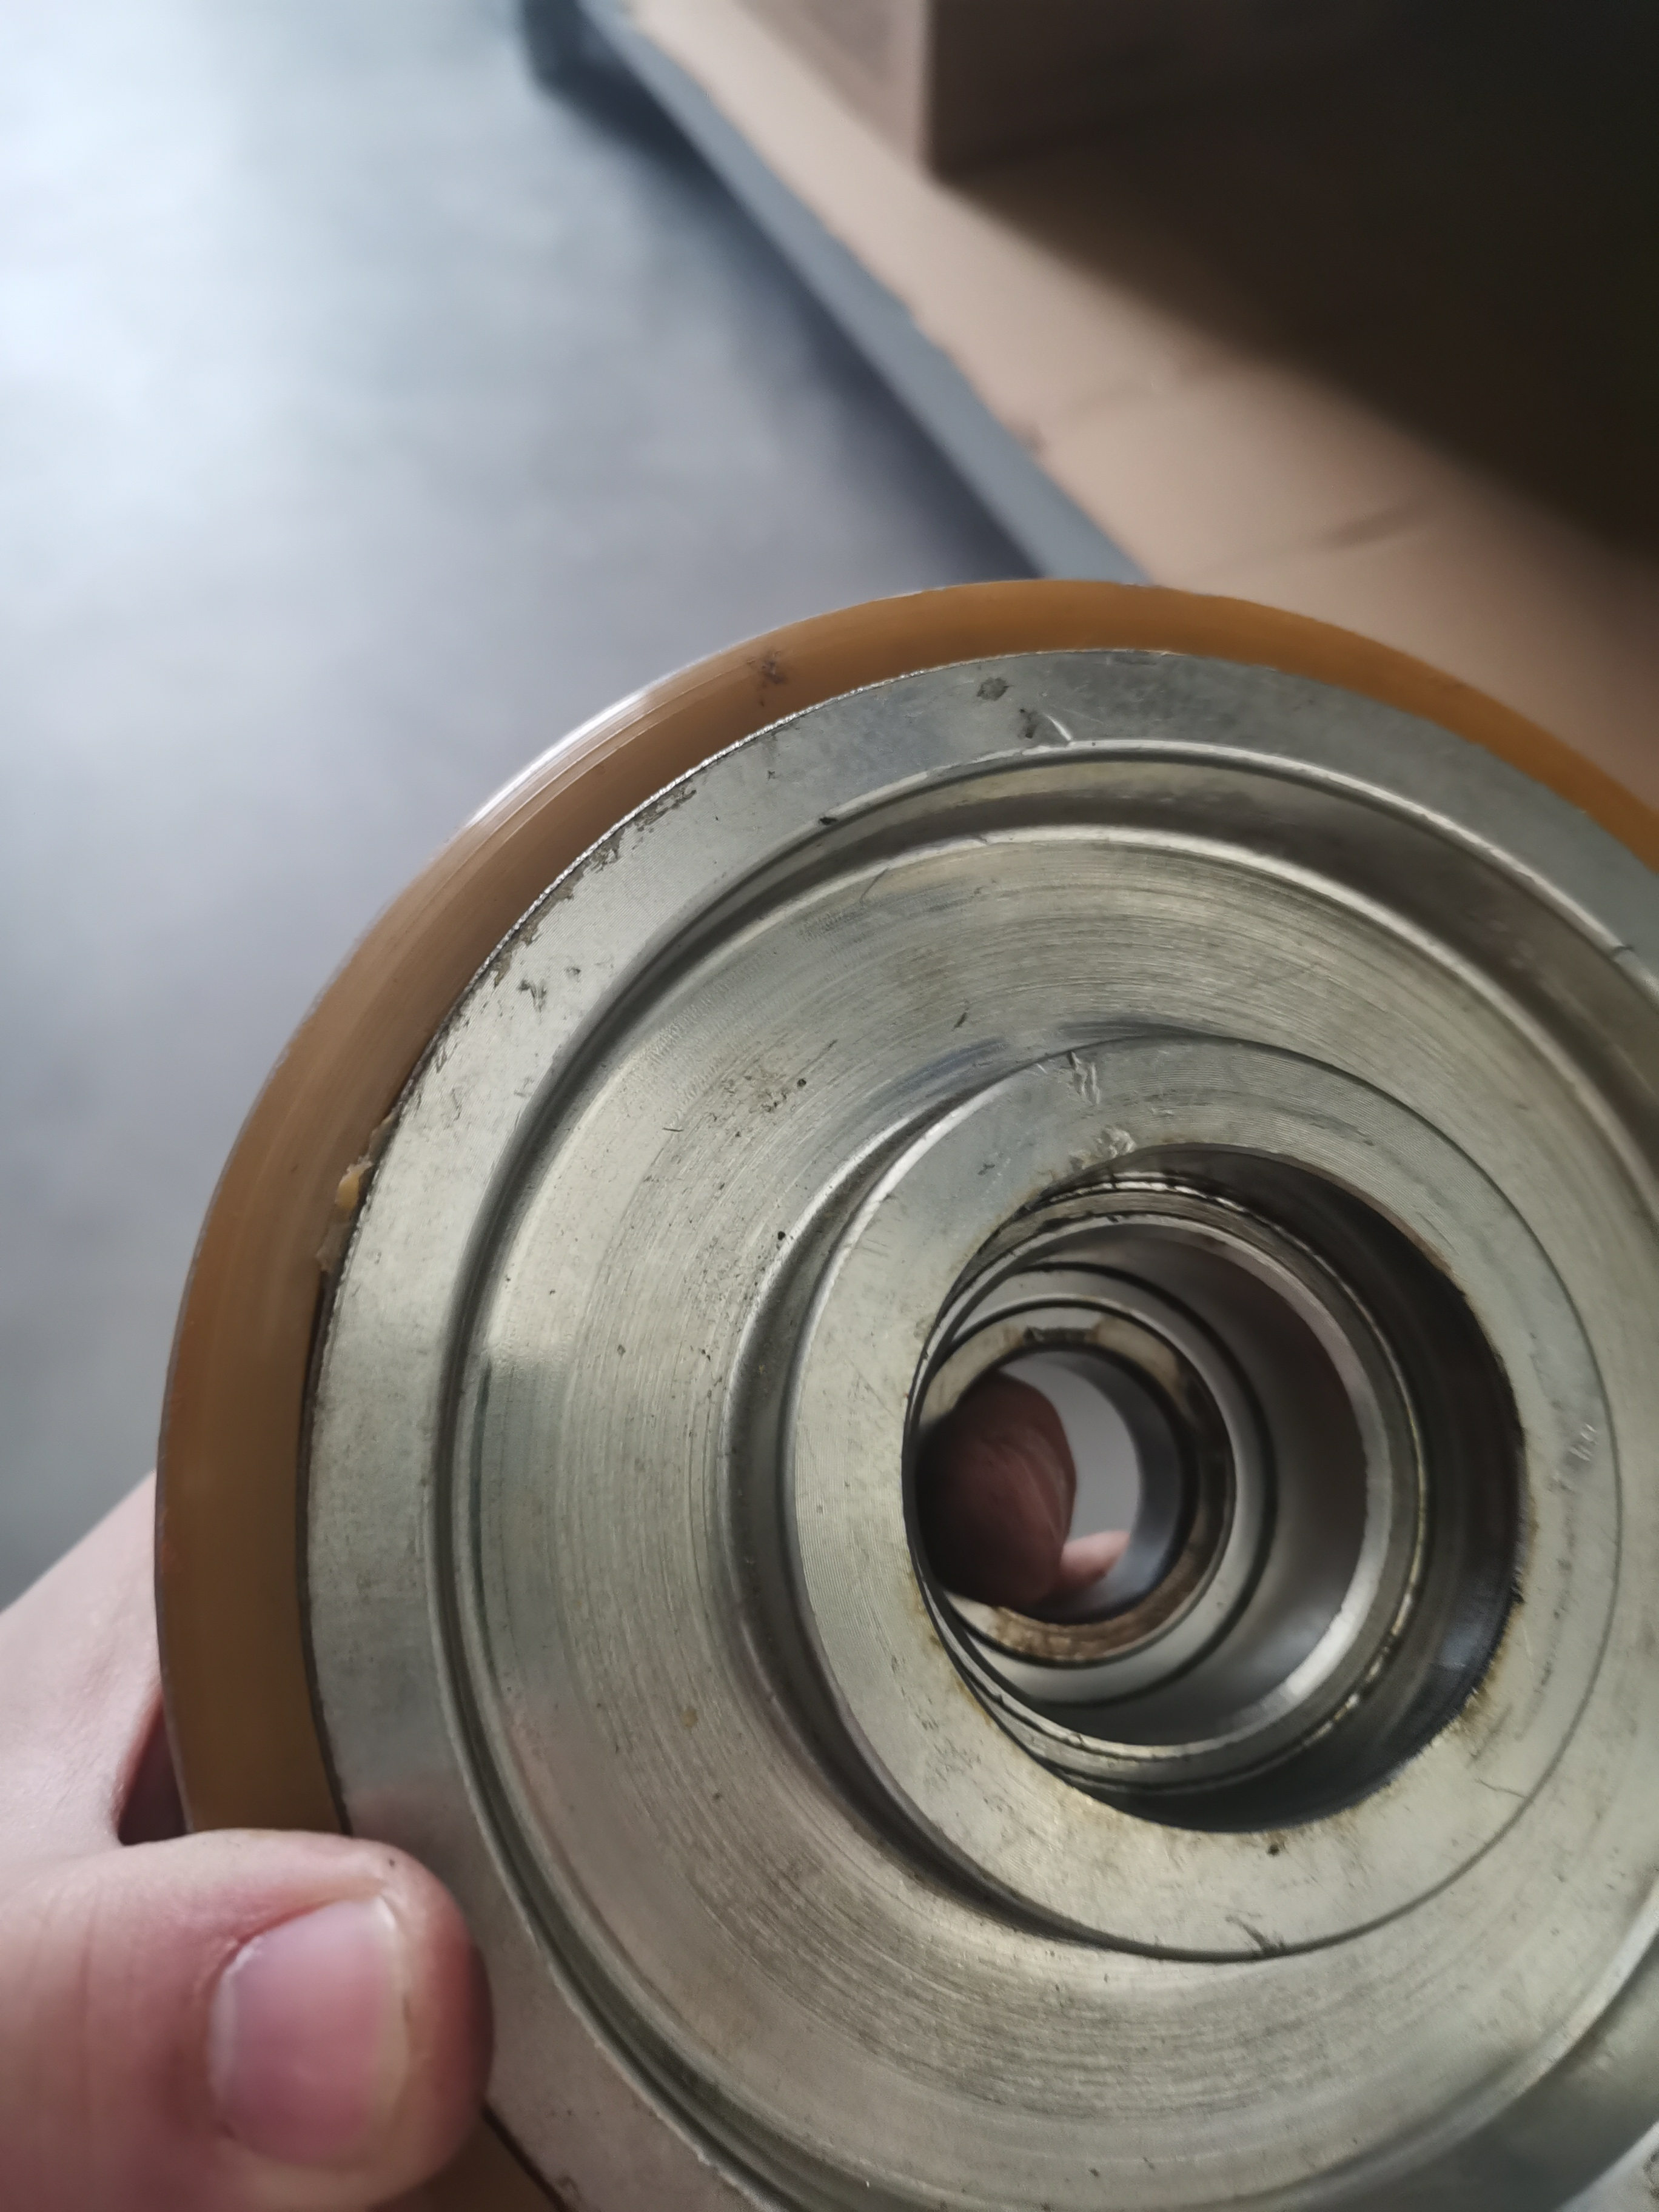bad_wheel: (917, 1134, 1554, 1846)
